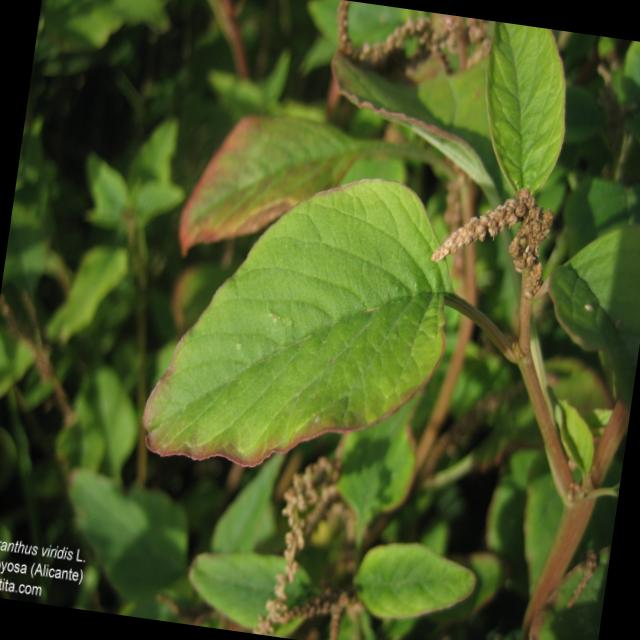Medicinal-Arive Dantu: (134, 11, 640, 557), (186, 444, 494, 640)
